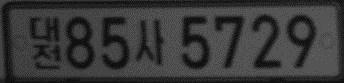2: (251, 13, 282, 68)
5: (180, 14, 211, 70), (101, 15, 130, 71)
7: (214, 14, 244, 68)
8: (65, 15, 95, 69)
9: (285, 13, 317, 67)
대전_V: (28, 16, 63, 70)
사: (134, 19, 164, 65)
